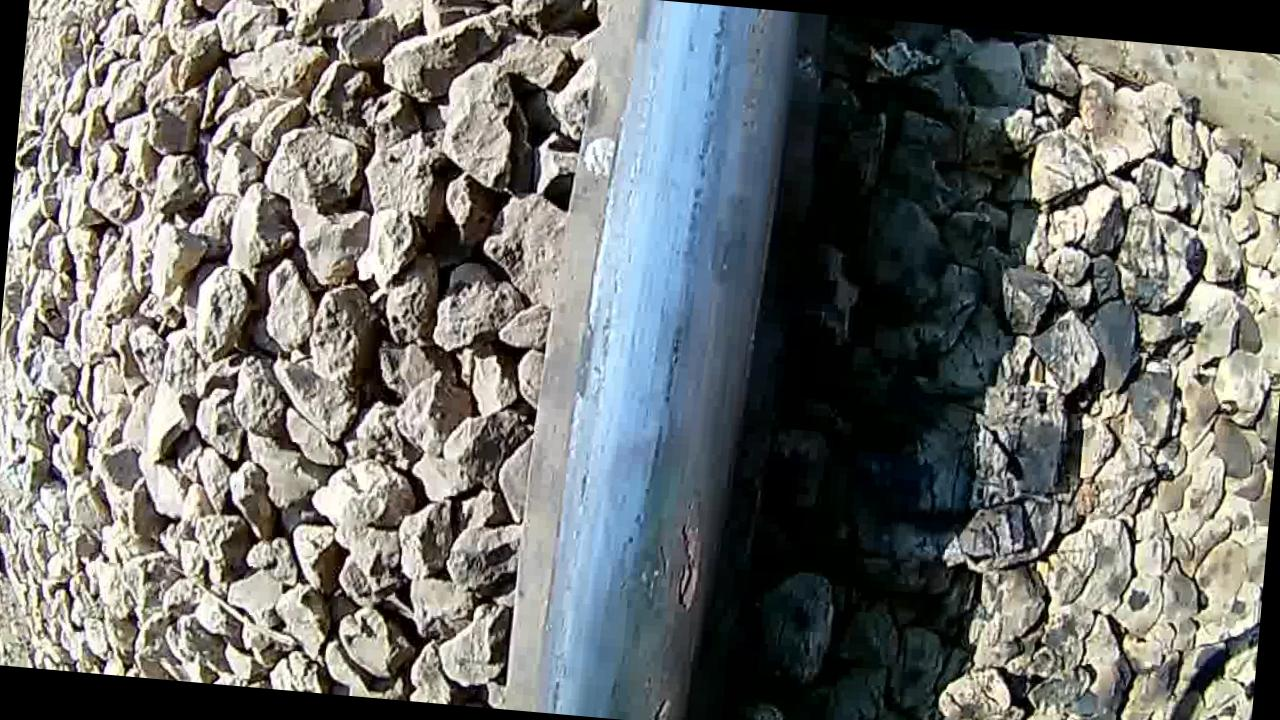crack: (550, 0, 800, 720)
